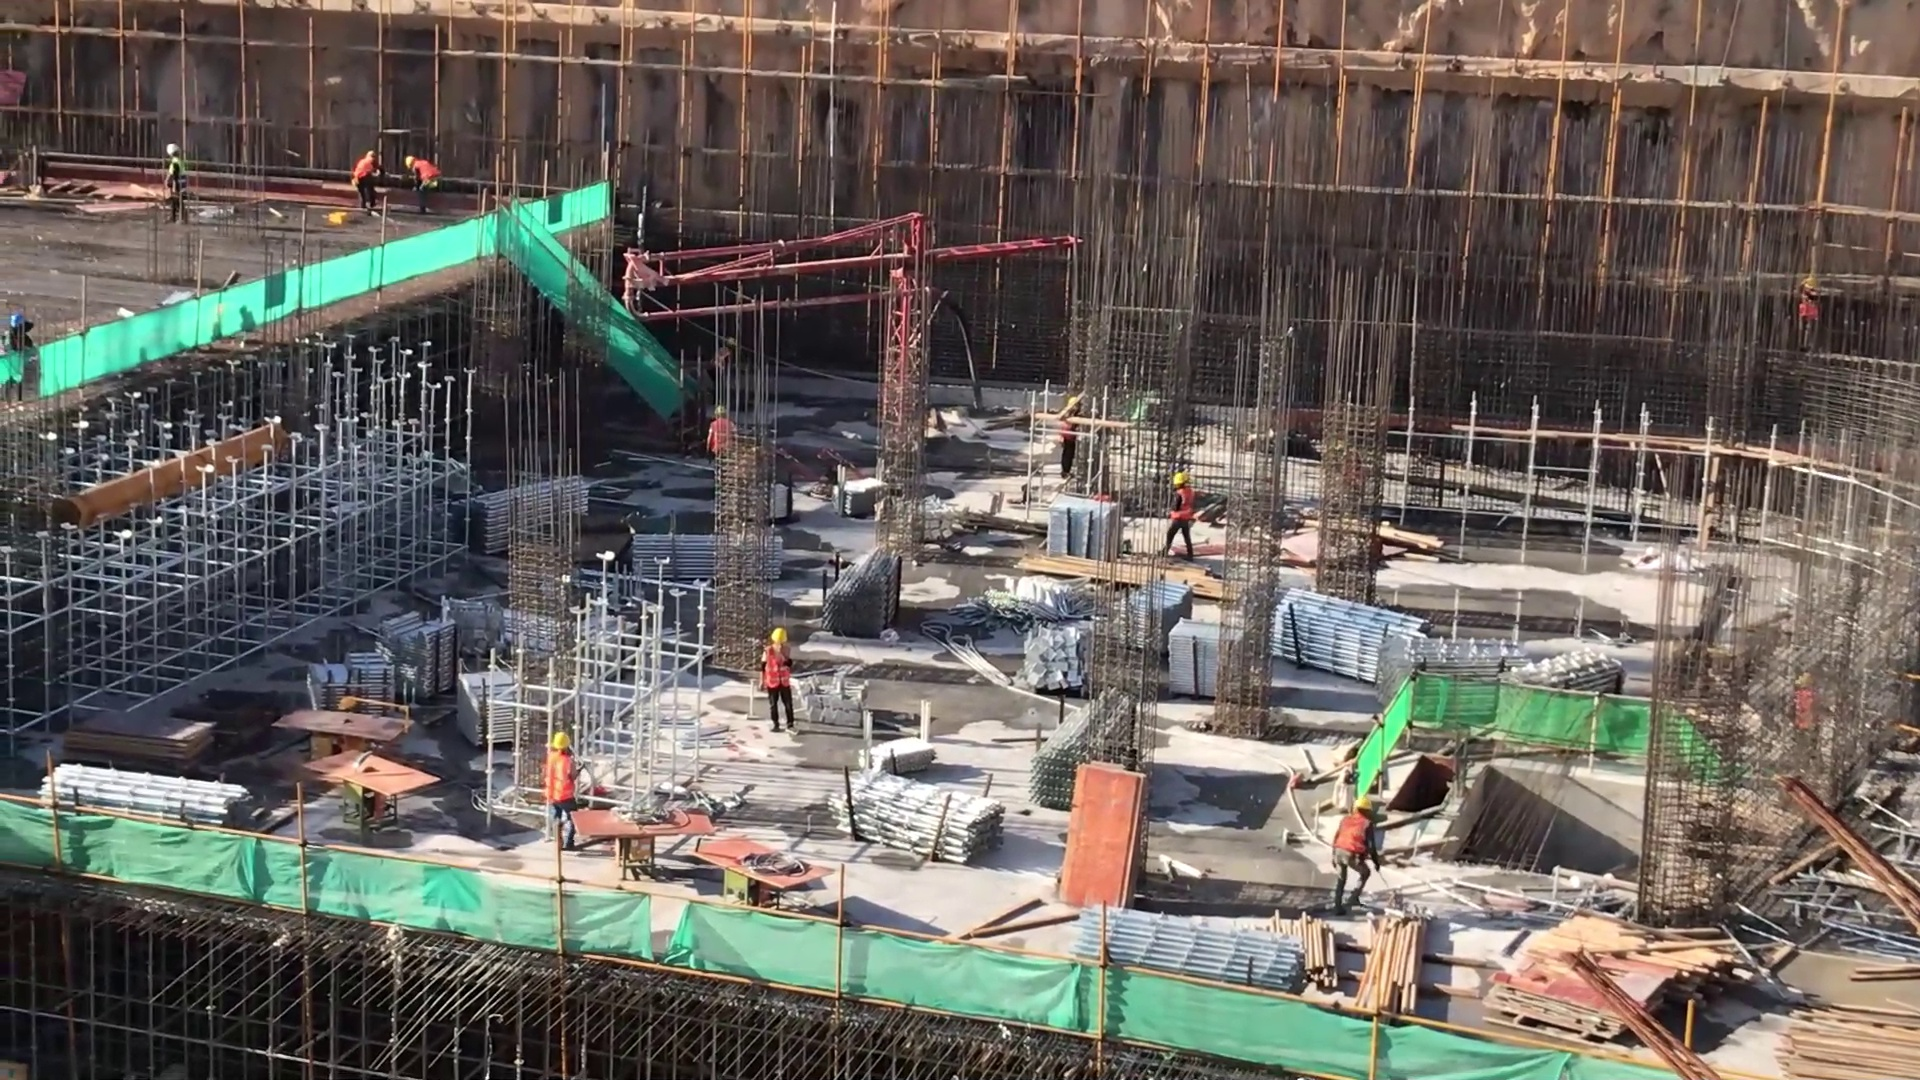board: (1483, 962, 1679, 1036), (1057, 758, 1152, 906), (59, 710, 224, 763)
cutter: (293, 737, 439, 831), (570, 795, 716, 888), (693, 828, 826, 920), (267, 704, 425, 756)
helmet: (549, 728, 576, 758), (5, 313, 35, 339), (1352, 794, 1380, 821), (1167, 469, 1192, 491), (166, 137, 184, 161), (771, 626, 793, 645), (402, 151, 418, 174), (709, 405, 730, 419)
person: (1322, 782, 1396, 930), (763, 622, 806, 748), (1158, 464, 1200, 579), (544, 728, 582, 853), (400, 148, 447, 232), (1058, 385, 1088, 502), (3, 311, 40, 402), (163, 138, 191, 243), (348, 149, 388, 222), (704, 404, 736, 476)
scaffold: (1079, 900, 1305, 1011), (822, 766, 1016, 882), (48, 766, 280, 861), (1272, 588, 1423, 704), (1484, 632, 1631, 748), (1358, 636, 1536, 720), (460, 464, 590, 559), (628, 527, 799, 590), (819, 551, 912, 651), (448, 657, 539, 756), (379, 603, 465, 705), (306, 645, 401, 737), (1119, 585, 1191, 667)
vest: (1334, 813, 1377, 866), (545, 753, 577, 816), (766, 641, 794, 699), (1172, 483, 1197, 523), (412, 158, 441, 192), (167, 161, 187, 203), (355, 157, 377, 185)
wood: (1771, 1001, 1902, 1080)
